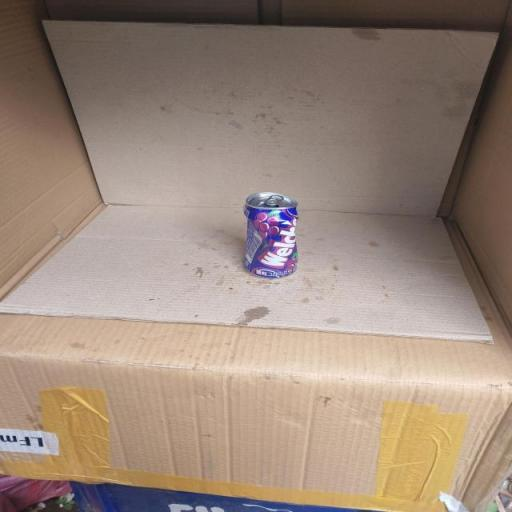metal: (226, 186, 320, 288)
